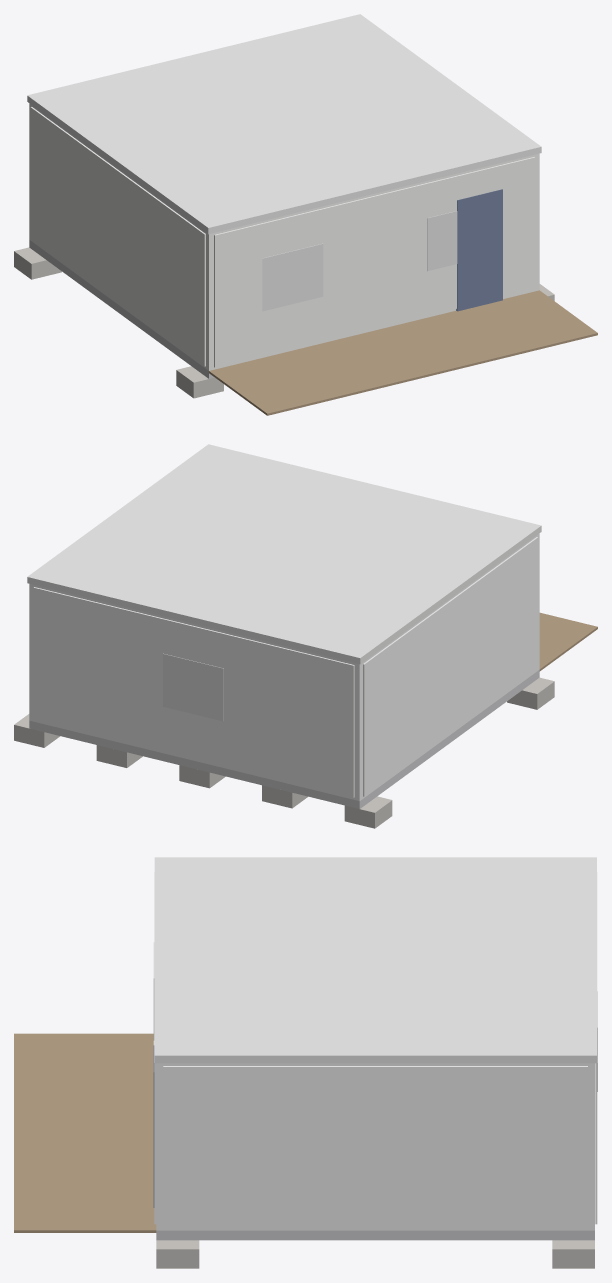
File: Studio-20-TerraceDeck-LOD2.glb
3 renders of one model, top to bottom at view 1: azimuth 30°, elevation 25°; view 2: azimuth 150°, elevation 25°; view 3: azimuth 270°, elevation 25°, orthographic. The views are drawn at different scales.
Parts seen in each view (by area): view 1: RoofMain, ExteriorPanelsStandard, TerraceDeck, EntryDoor, WindowsStandard, ExteriorShell, FoundationBlocks, BaseFrame; view 2: ExteriorPanelsStandard, RoofMain, FoundationBlocks, ExteriorShell, BaseFrame, WindowsStandard, TerraceDeck; view 3: RoofMain, ExteriorPanelsStandard, TerraceDeck, ExteriorShell, BaseFrame, FoundationBlocks.
Boxes of the visible parts, x1,y1,x2,y2 form: RoofMain: (27,14,541,234); ExteriorPanelsStandard: (30,107,535,367); TerraceDeck: (209,290,597,415); EntryDoor: (456,189,502,311); WindowsStandard: (262,211,457,311); ExteriorShell: (29,103,539,370); FoundationBlocks: (14,247,554,398); BaseFrame: (29,240,214,378); ExteriorPanelsStandard: (33,537,538,797); RoofMain: (27,444,541,664); FoundationBlocks: (14,677,554,828); ExteriorShell: (29,533,539,801); BaseFrame: (29,670,539,808); WindowsStandard: (163,653,223,721); TerraceDeck: (539,612,597,671); RoofMain: (154,857,596,1063); ExteriorPanelsStandard: (154,872,597,1228); TerraceDeck: (14,1033,156,1232); ExteriorShell: (156,1063,594,1230); BaseFrame: (156,1230,594,1240); FoundationBlocks: (156,1240,594,1268).
Size of the model in its own units: 7.14 by 3.17 by 8.2.
